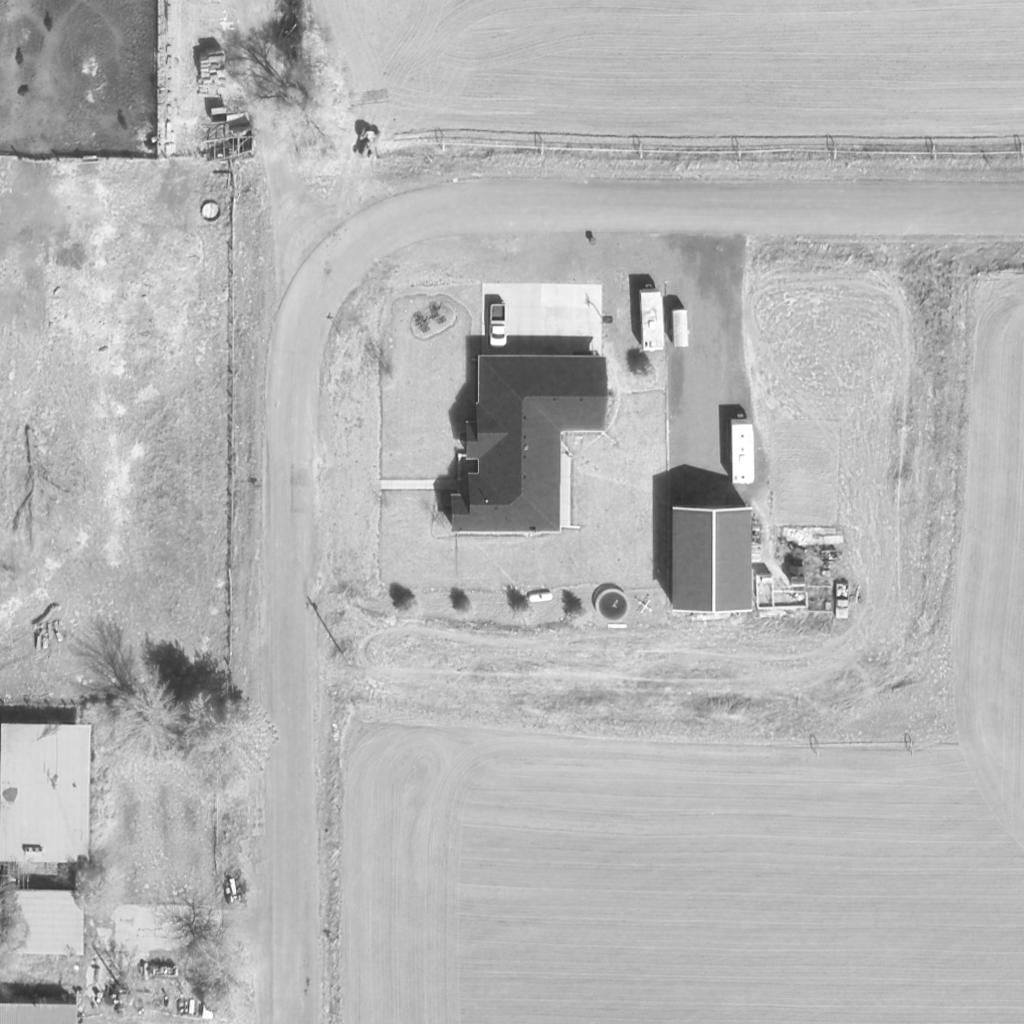vehicle: (638, 287, 668, 355), (730, 419, 756, 487), (351, 127, 383, 163), (488, 303, 508, 351), (833, 581, 851, 619)
